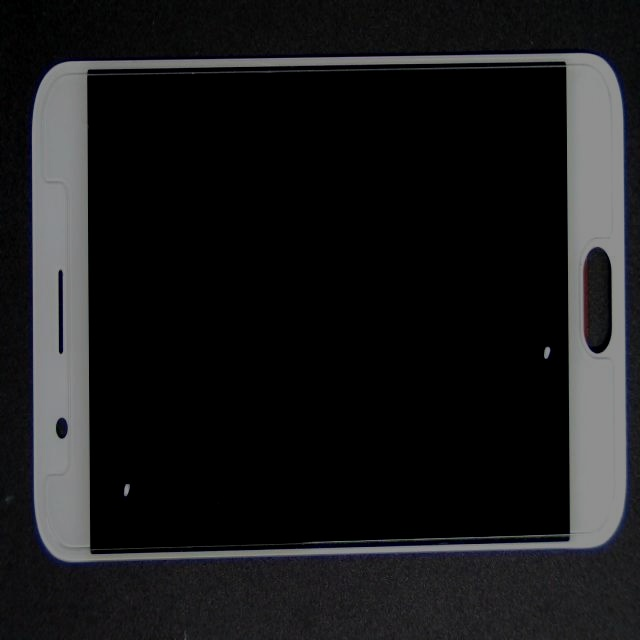stain: (288, 112, 640, 481), (69, 196, 179, 640)
